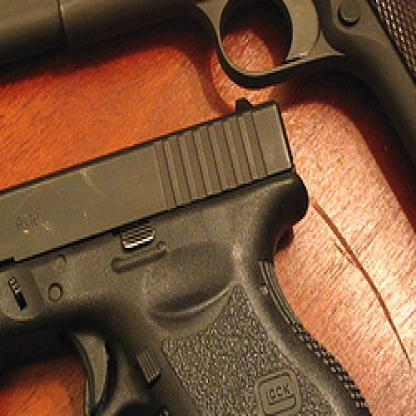gun: (0, 77, 398, 414), (0, 0, 415, 308)
